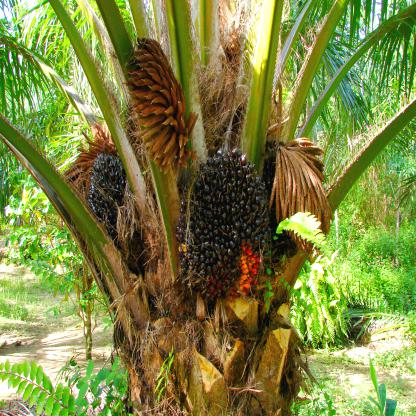palm-oil: (179, 147, 274, 296), (89, 147, 127, 221)
